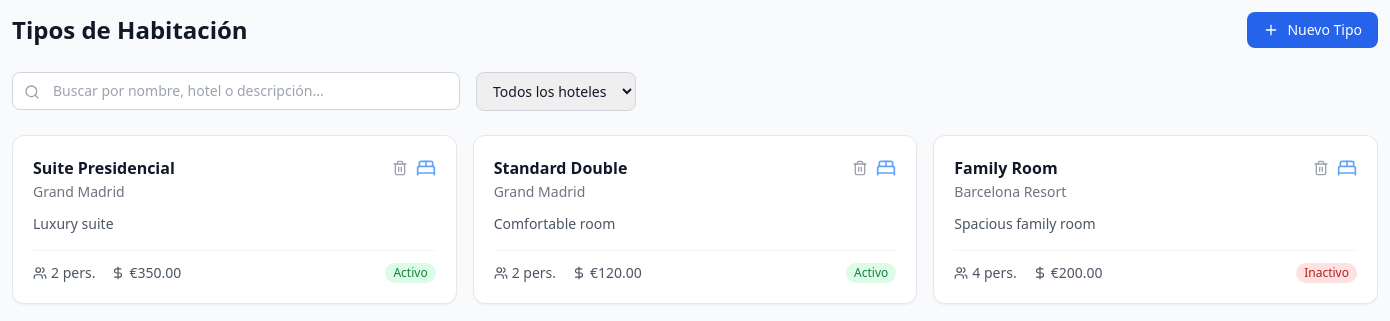
Test case: RoomsPage › should show empty state when search has no results
Expected: the heading "Suite Presidencial" is shown, [33,157,175,179]
Type "zzzznonexistent" into the field with placeholder "Buscar por nombre, hotel o descripción..." at (236, 91), box [12,72,460,110]
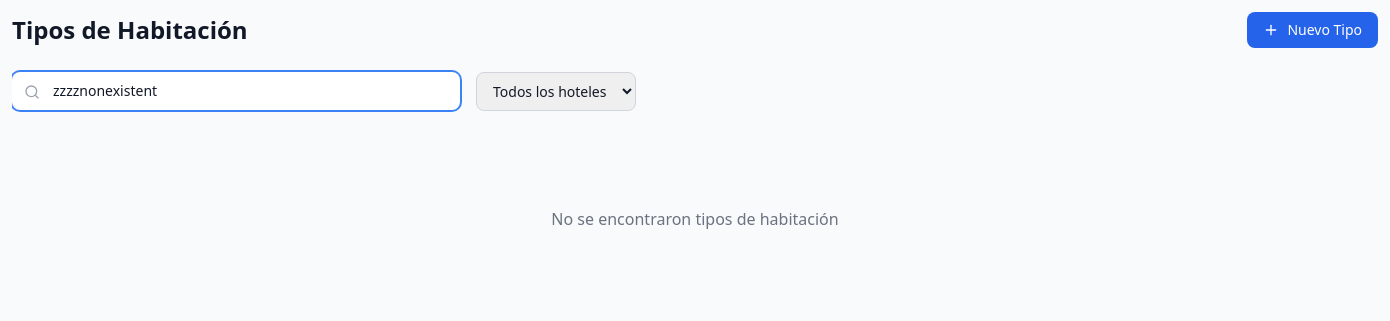
Expected: the text "No se encontraron tipos de habitación" is shown, [551,208,839,230]
